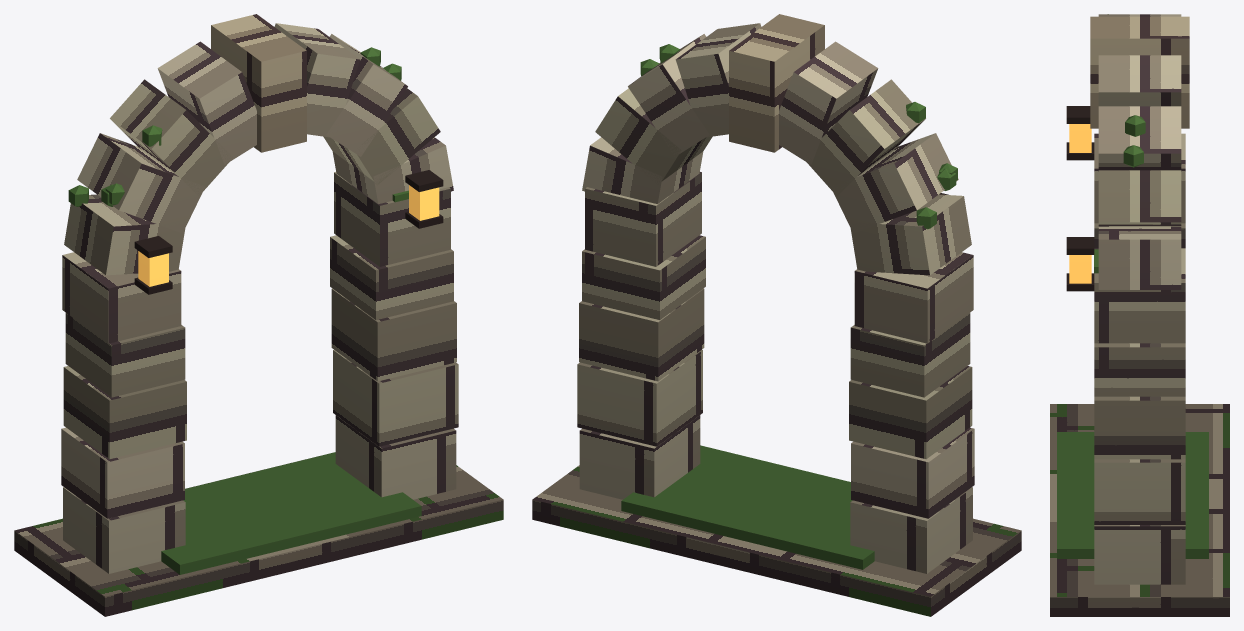
File: portal_arch.glb
3 views of the same model, side by side, from view 1: azimuth 30°, elevation 25°; view 2: azimuth 150°, elevation 25°; view 3: azimuth 270°, elevation 25° (orthographic).
Parts seen in each view (by area): view 1: portal_arch; view 2: portal_arch; view 3: portal_arch.
Boxes of the visible parts, box(x1,y1,x2,y2) form: portal_arch: box(14, 14, 503, 616); portal_arch: box(532, 14, 1021, 616); portal_arch: box(1050, 14, 1229, 616).
Size of the model in its own units: 3.3 by 3.93 by 1.3.
3 materials, 1 textured.
